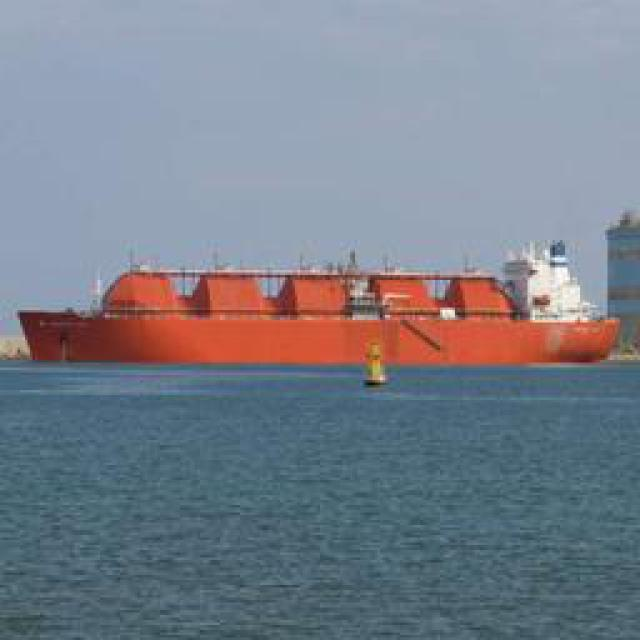Ship: (8, 262, 640, 378)
